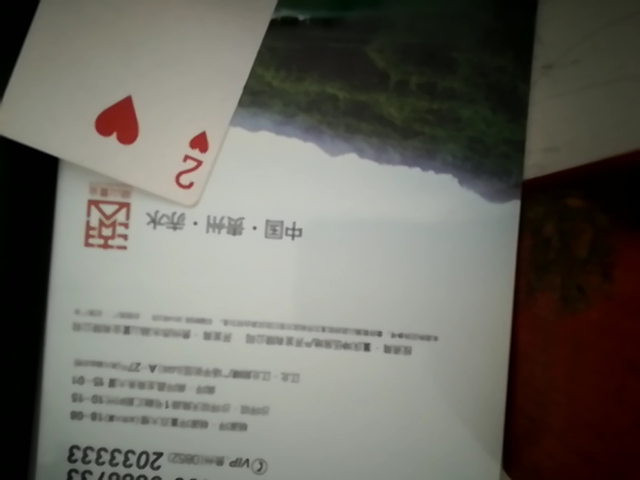hx 2: (5, 0, 316, 236)
